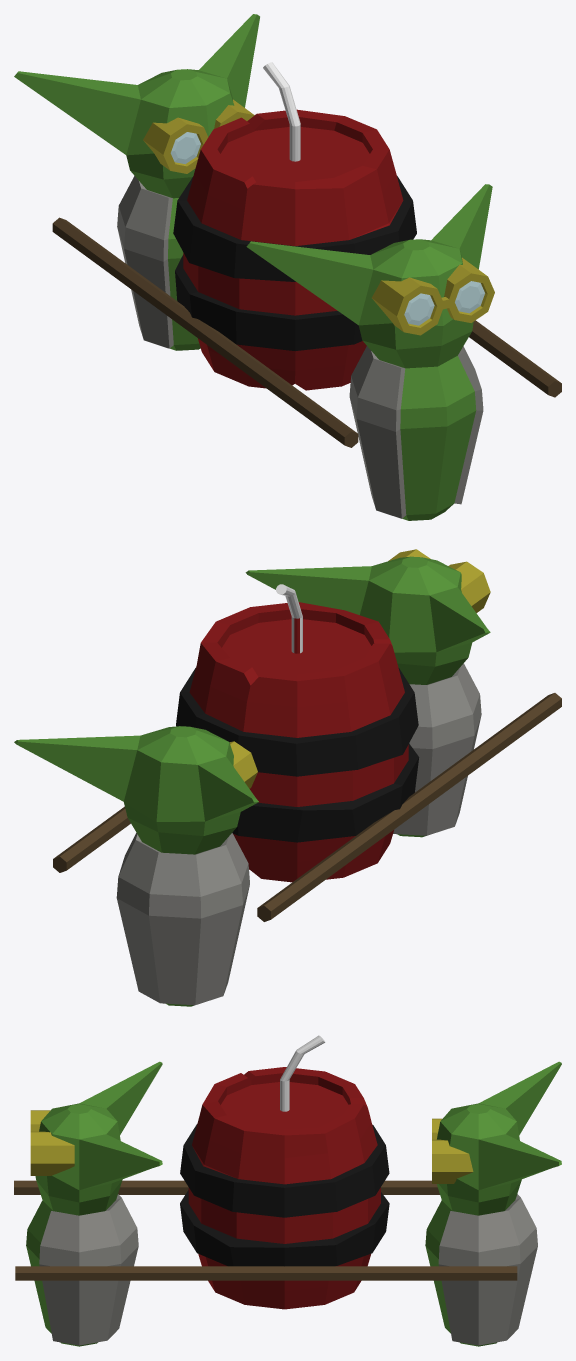
Rendered from goblin sappers1.fbx.
The picture shows the model from 3 angles, top to bottom: view 1: azimuth 30°, elevation 25°; view 2: azimuth 150°, elevation 25°; view 3: azimuth 270°, elevation 25°; orthographic projection. The views are drawn at different scales.
Visible parts, largest first — view 1: Barrel.002; view 2: Barrel.002; view 3: Barrel.002.
Boxes of the visible parts, left/top/right/bottom form: Barrel.002: left=14, top=14, right=561, bottom=520; Barrel.002: left=14, top=549, right=561, bottom=1006; Barrel.002: left=14, top=1035, right=561, bottom=1346.
Bounding box in the file's own units: 319 × 436 × 716.
